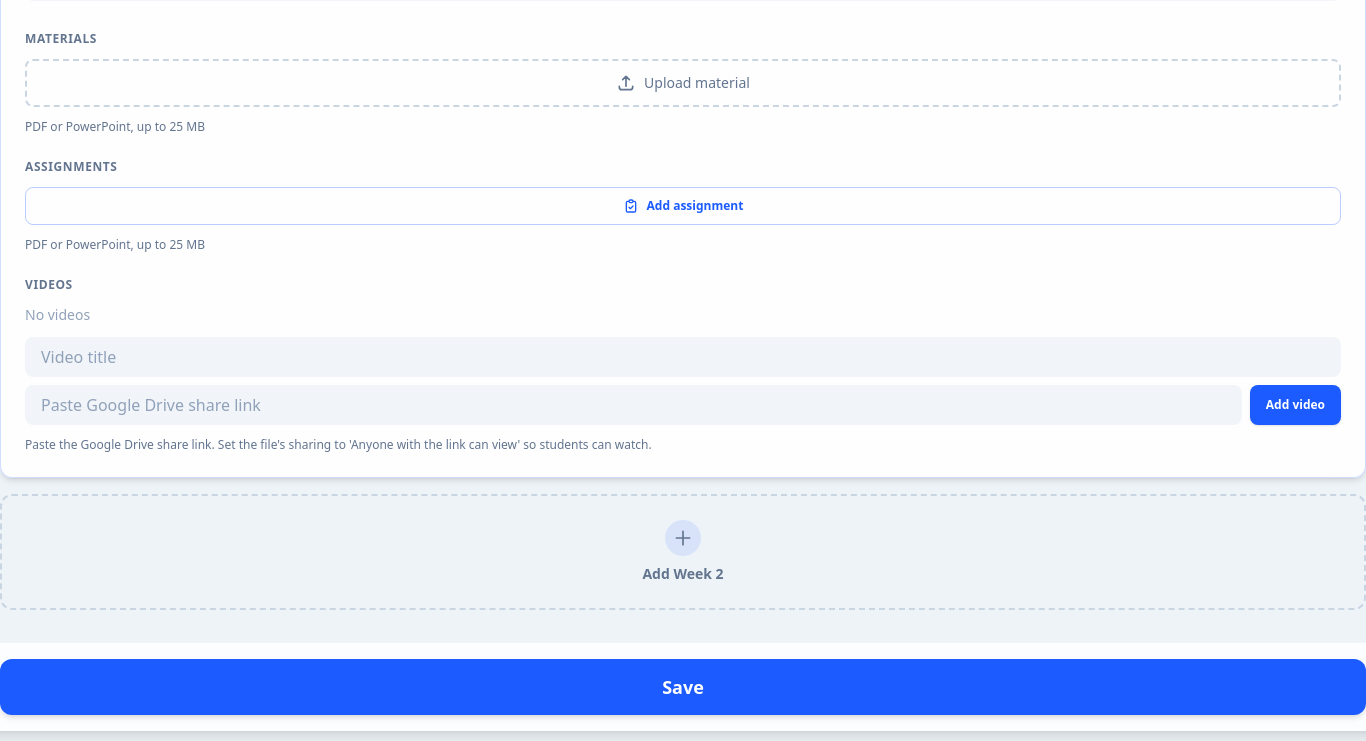
Test case: WaveBuilder — Videos section (US1) › rejects a non-Drive link with an inline error and adds nothing
This screenshot has width=1366, height=741.
(page scrolled)
Type "Intro" into the field labelled "Video title" at (683,357), box [25, 337, 1341, 377]
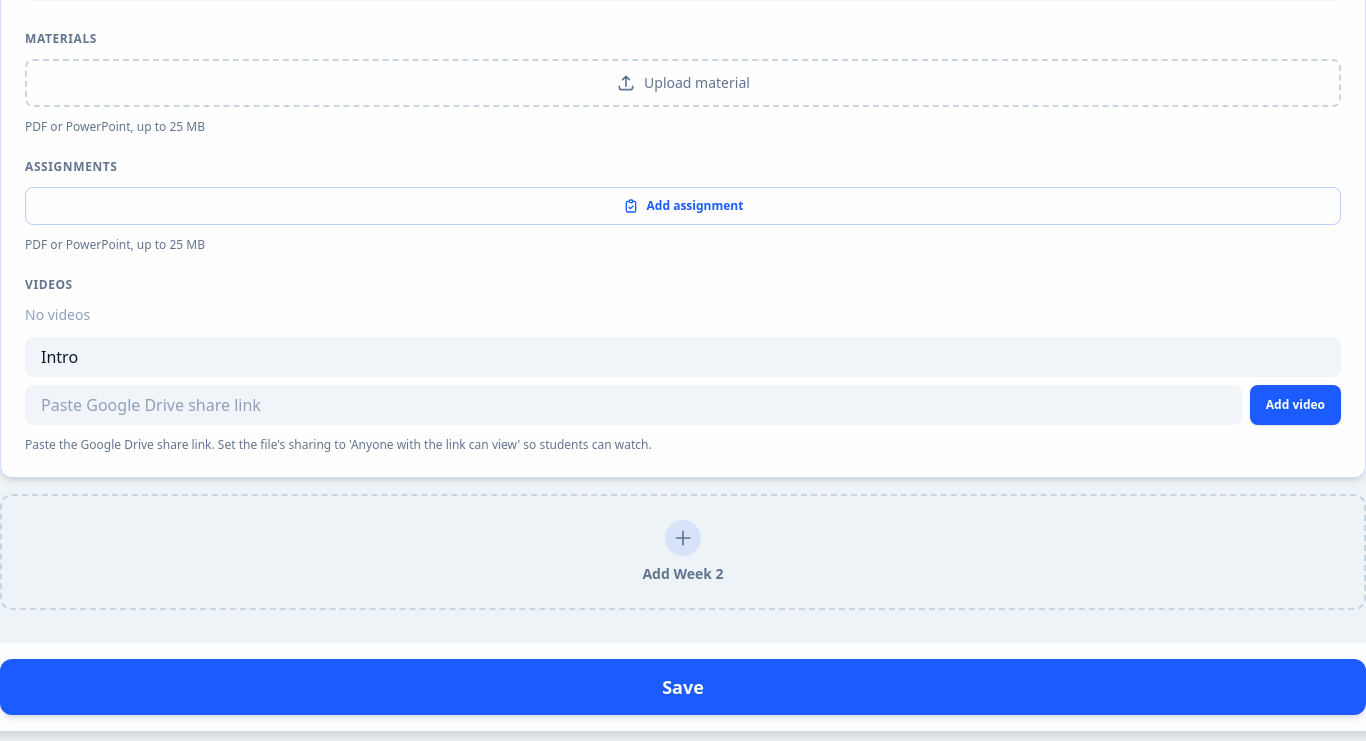
Type "https://example.com/x" into the field labelled "Paste Google Drive share link" at (633,405), box [25, 385, 1242, 425]
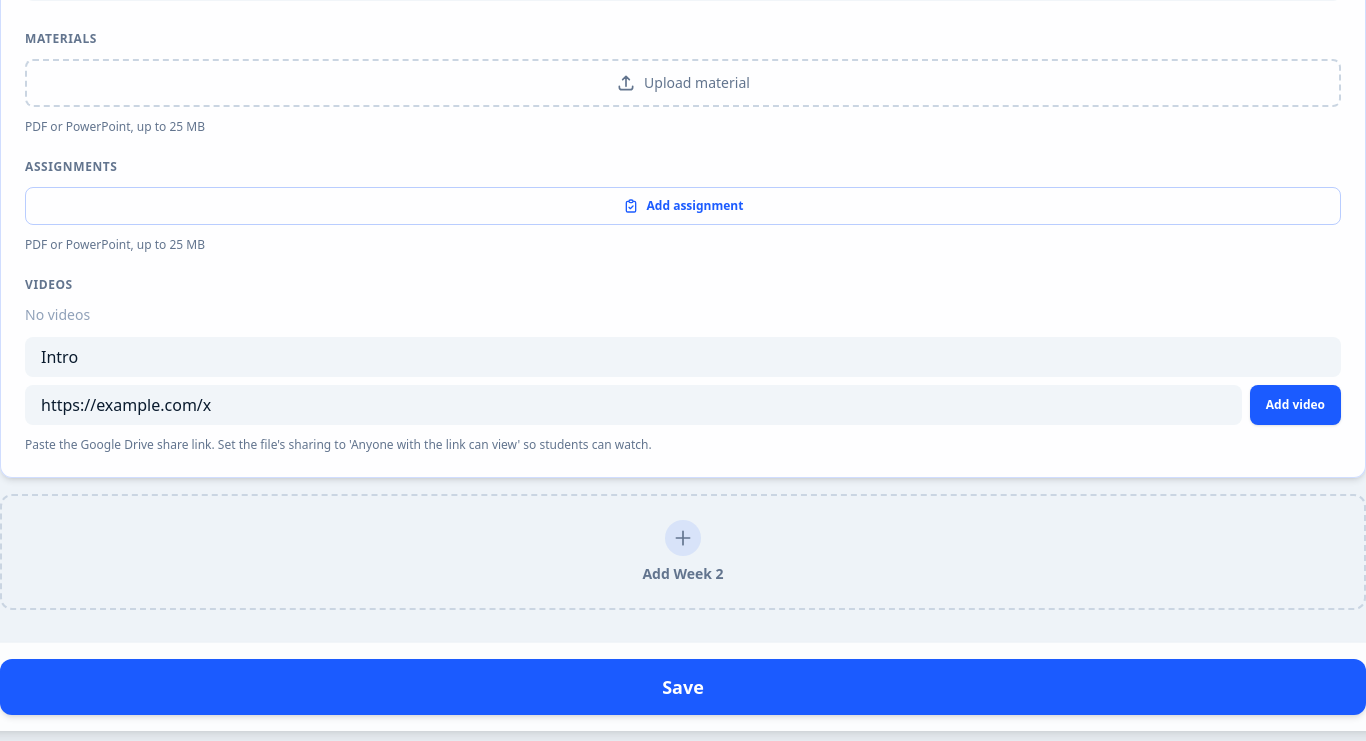
Click the button "Add video" at (1295,405), box [1250, 385, 1341, 425]
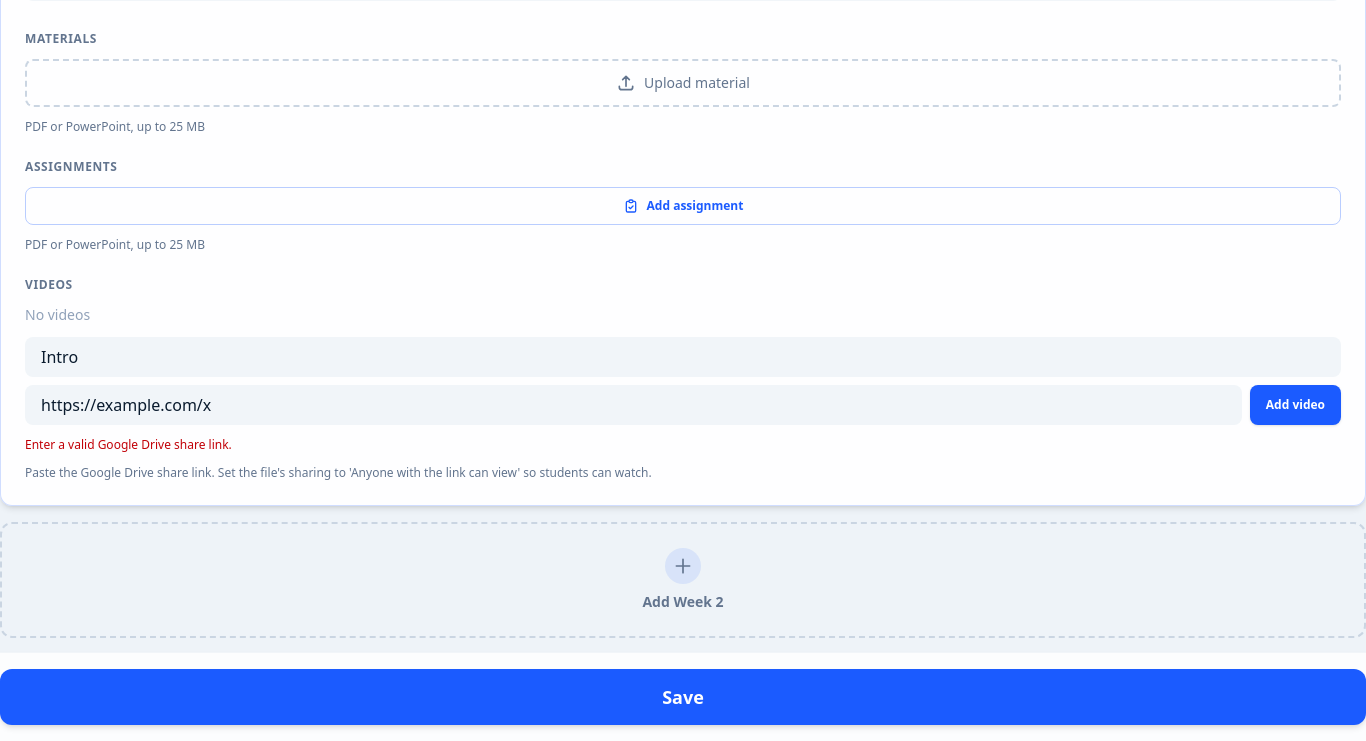
Check: the text "No videos" is shown, box [25, 305, 90, 324]
Check: the message reads "Enter a valid Google Drive share link.", box [25, 436, 232, 453]
